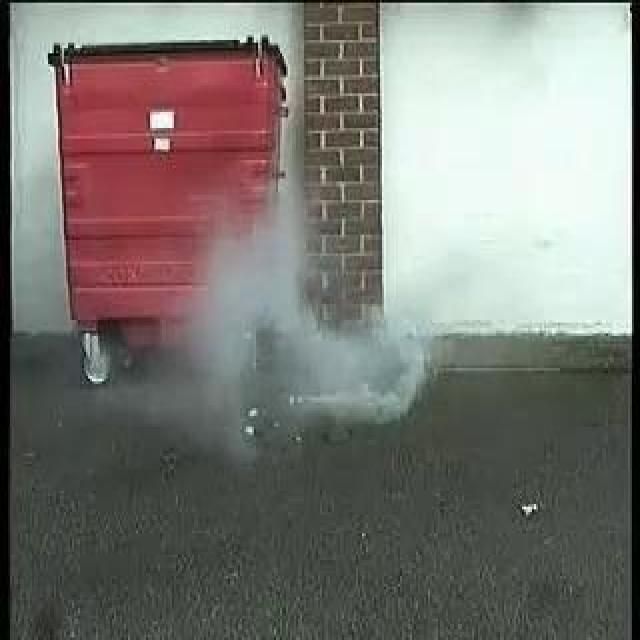Smoke: (167, 211, 427, 424)
